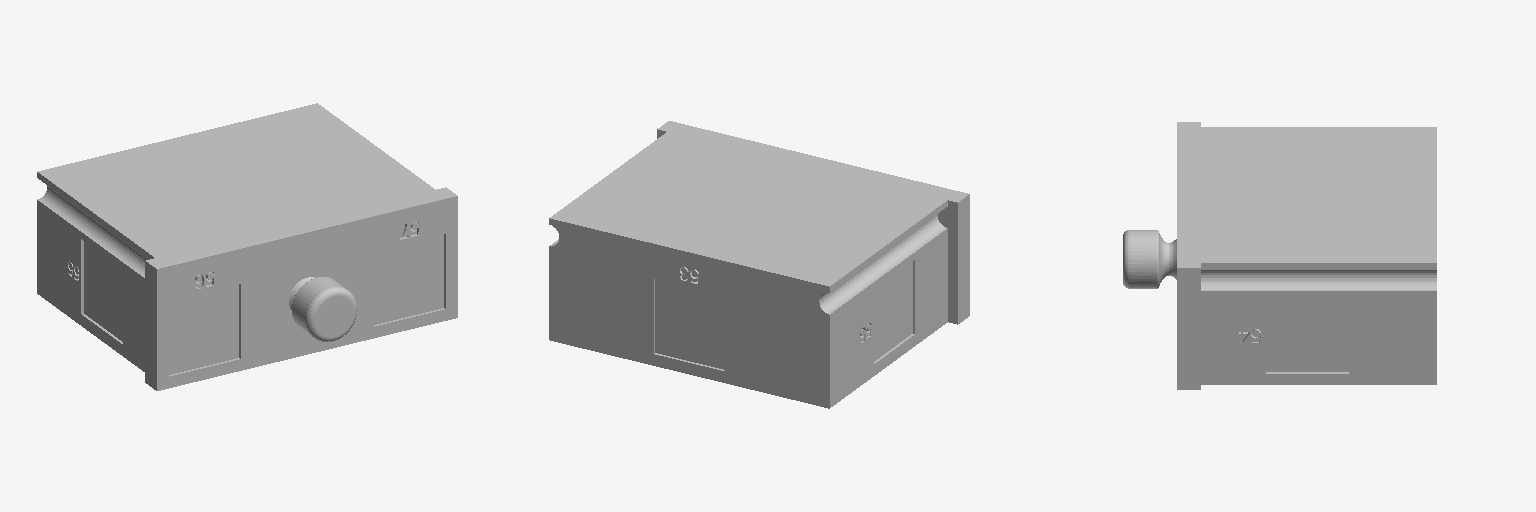
Rendered from drawer_container_top.obj.
3 views of the same model, side by side, from view 1: azimuth 30°, elevation 25°; view 2: azimuth 150°, elevation 25°; view 3: azimuth 270°, elevation 25° (orthographic).
Parts seen in each view (by area): view 1: drawer_top_v3, drawer_top_v3.004, drawer_top_v3.005, drawer_top_v3.003; view 2: drawer_top_v3, drawer_top_v3.001, drawer_top_v3.003; view 3: drawer_top_v3, drawer_top_v3.002.
Boxes of the visible parts, <box> form: drawer_top_v3: <box>37,103,457,390</box>; drawer_top_v3.004: <box>169,284,240,376</box>; drawer_top_v3.005: <box>374,234,445,326</box>; drawer_top_v3.003: <box>81,239,122,343</box>; drawer_top_v3: <box>549,121,969,408</box>; drawer_top_v3.001: <box>654,279,724,370</box>; drawer_top_v3.003: <box>874,260,914,363</box>; drawer_top_v3: <box>1123,122,1436,389</box>; drawer_top_v3.002: <box>1266,299,1348,373</box>.
Bounding box in the file's own units: 0.1103 × 0.0428 × 0.0997.